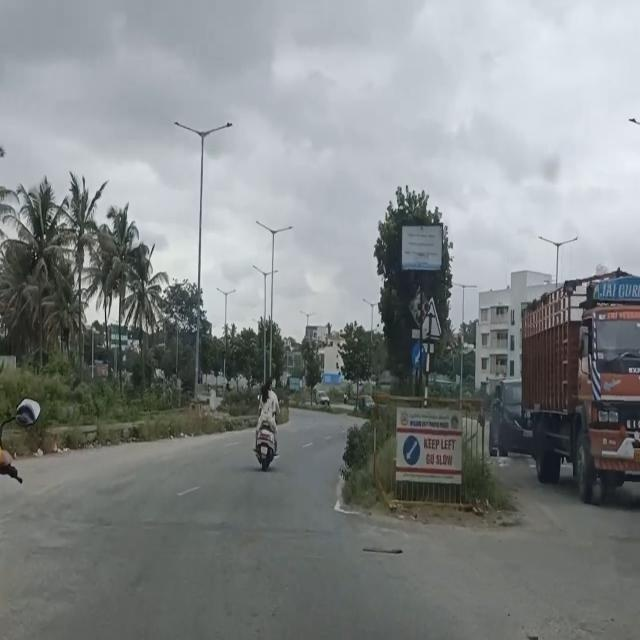bien_hieu_lenh: (411, 341, 427, 374)
